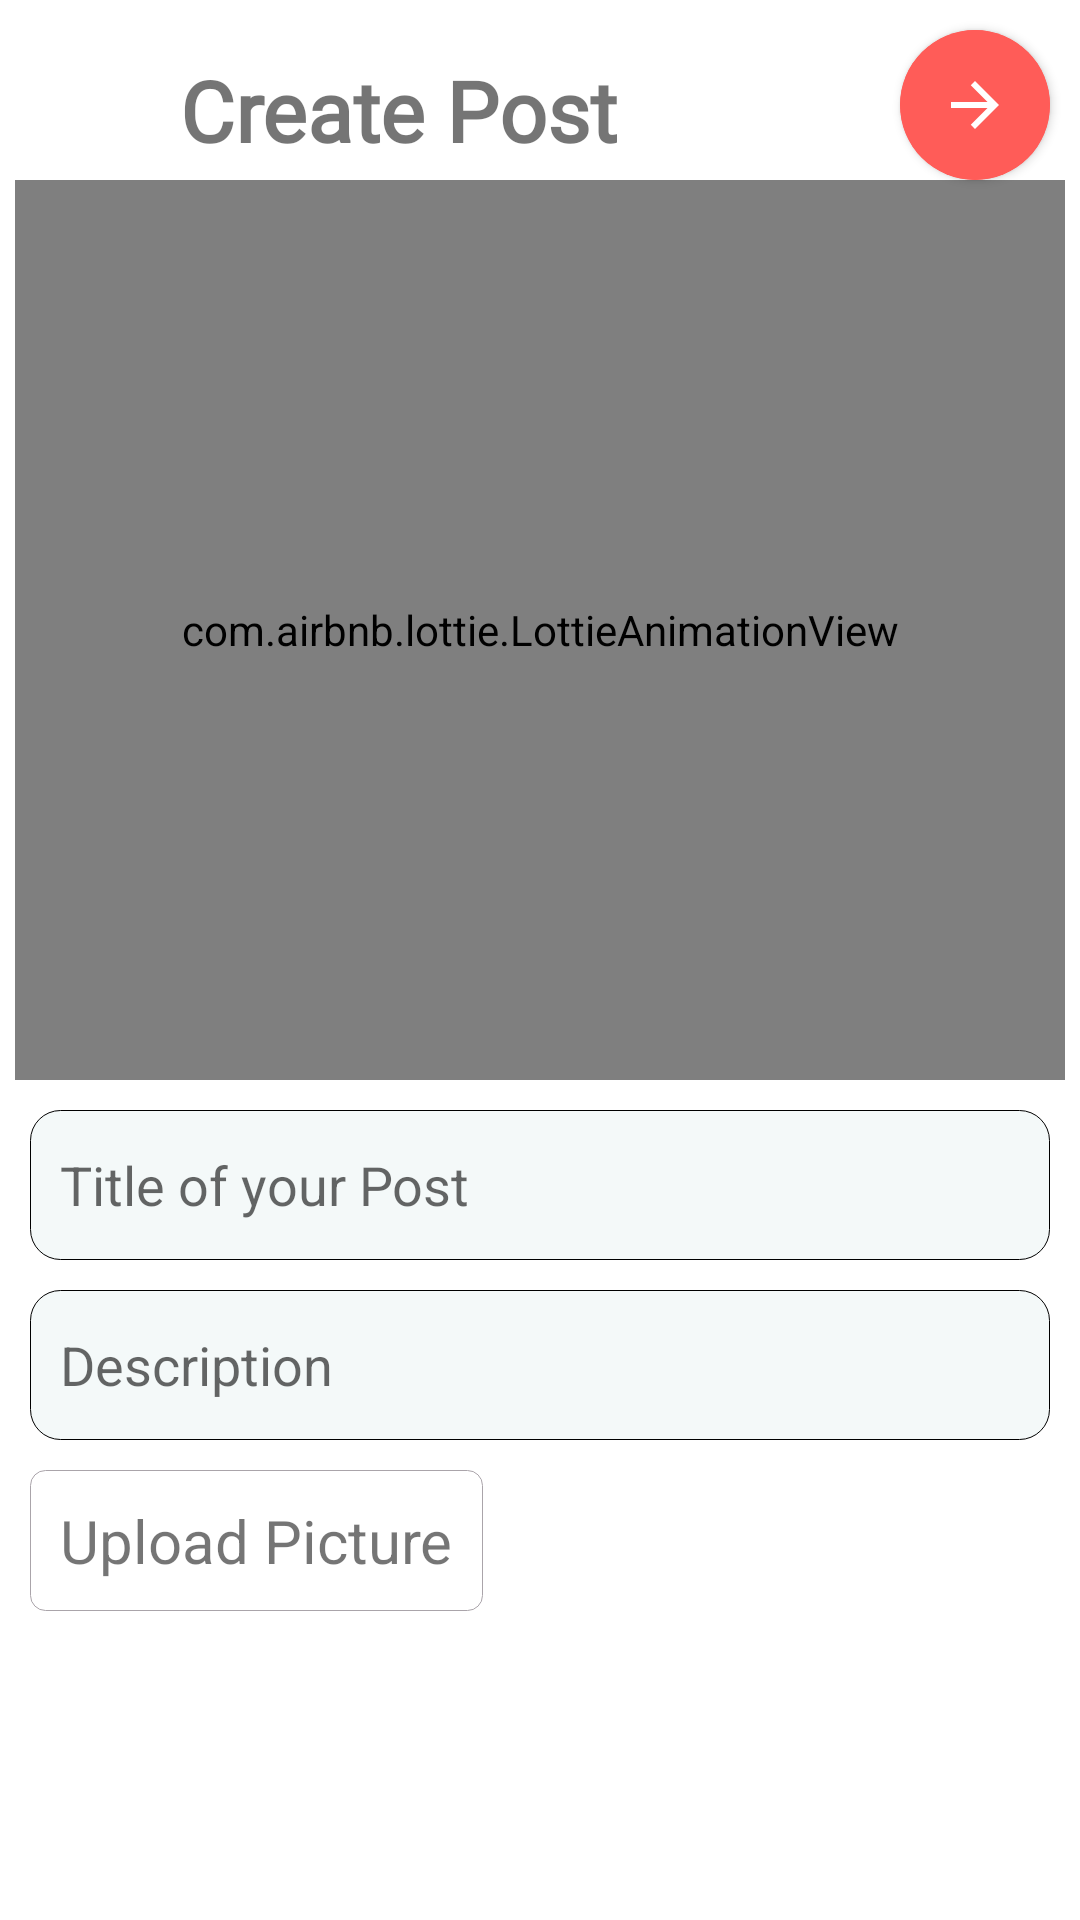

Point at icon controls on the screen. Image size 1080 × 1920, points as (x,y).
arrow: (975,105)
